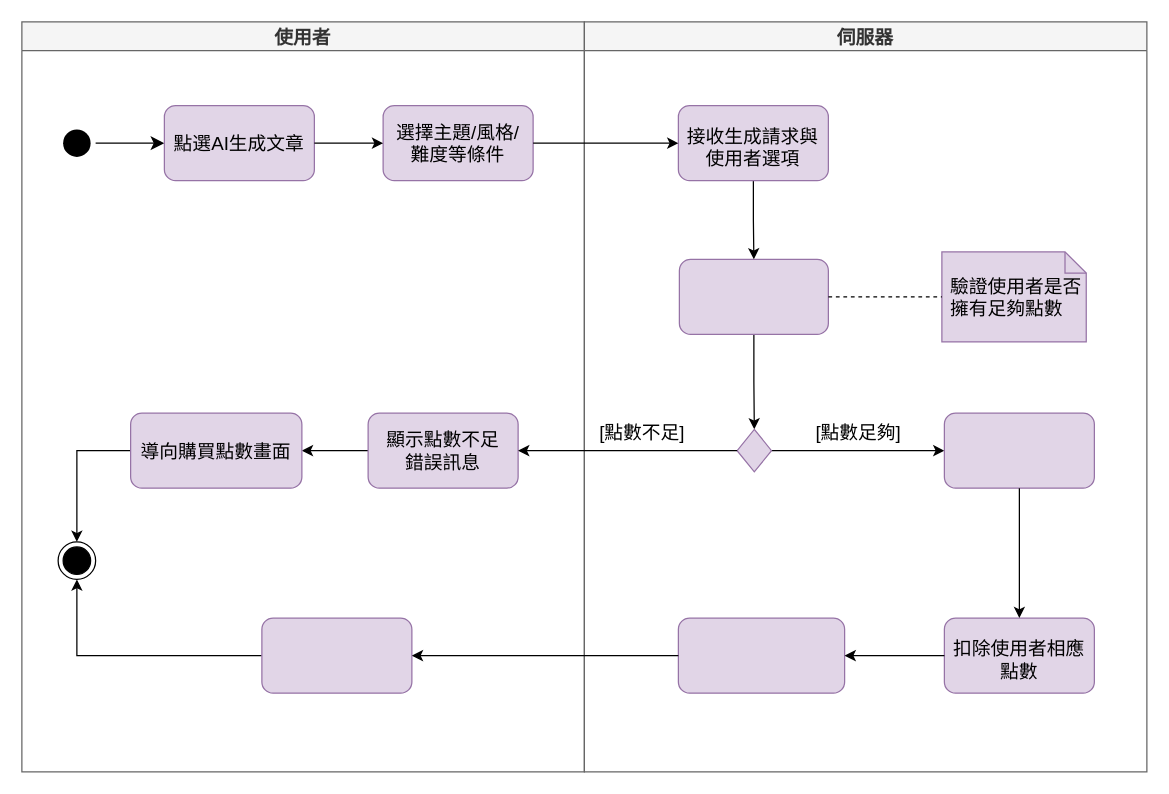
This 1169x794 diagram has some shape labels left out. Here are the shapes that lost their labels. From the top down, the centre of each, then its label:
At point (753, 296): "驗證點數".
At point (1018, 450): "呼叫 AI 模型生成文章".
At point (336, 655): "顯示生成文章".
At point (761, 655): "回傳生成的文章給使用者".
